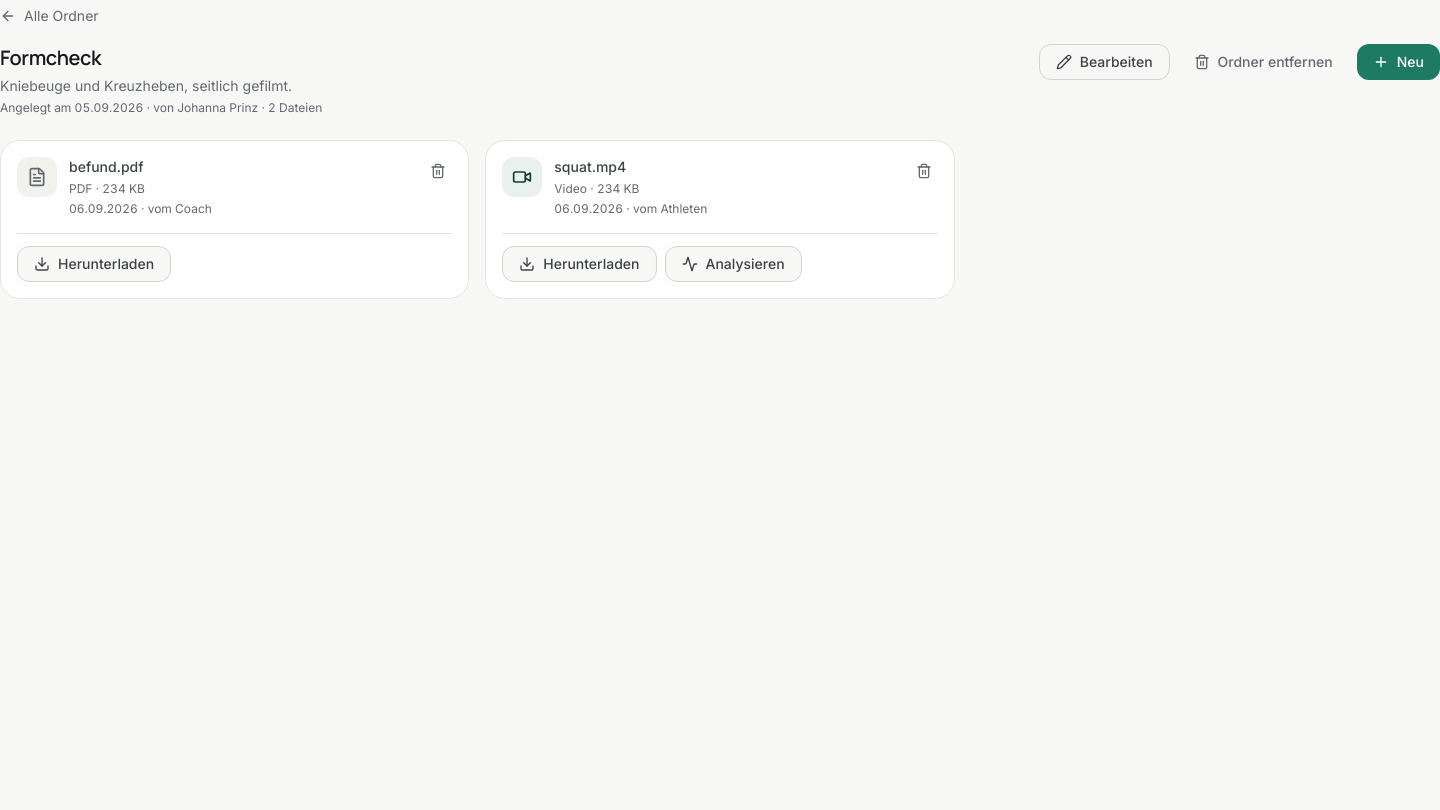
Test: putting something here › files an upload into the folder that is open
The image size is (1440, 810).
Click the button "Neu". click: (1398, 62)
box: [1357,44,1439,80]
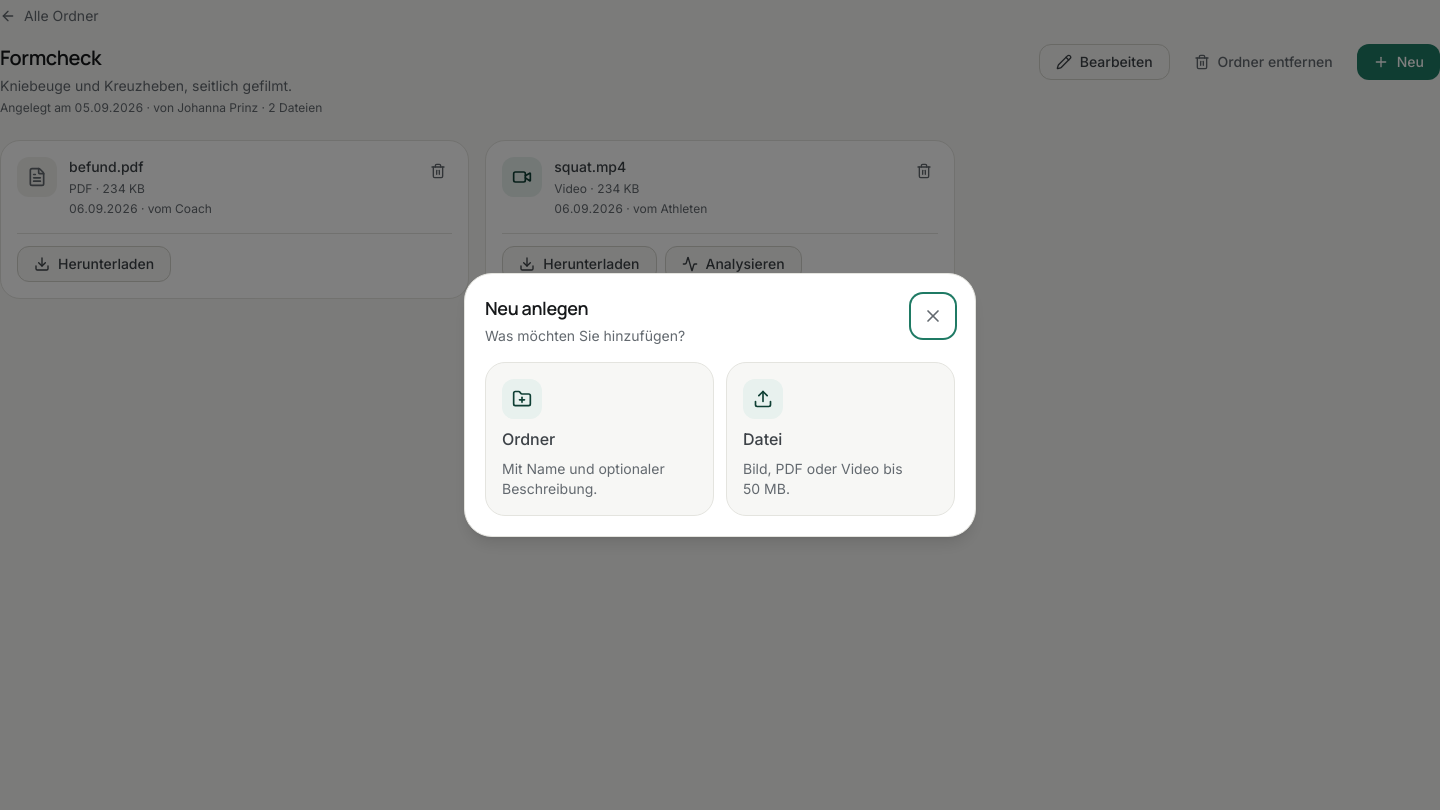
Click the button "Datei Bild, PDF oder Video bis 50 MB.". click: (840, 439)
box: [726,362,955,516]
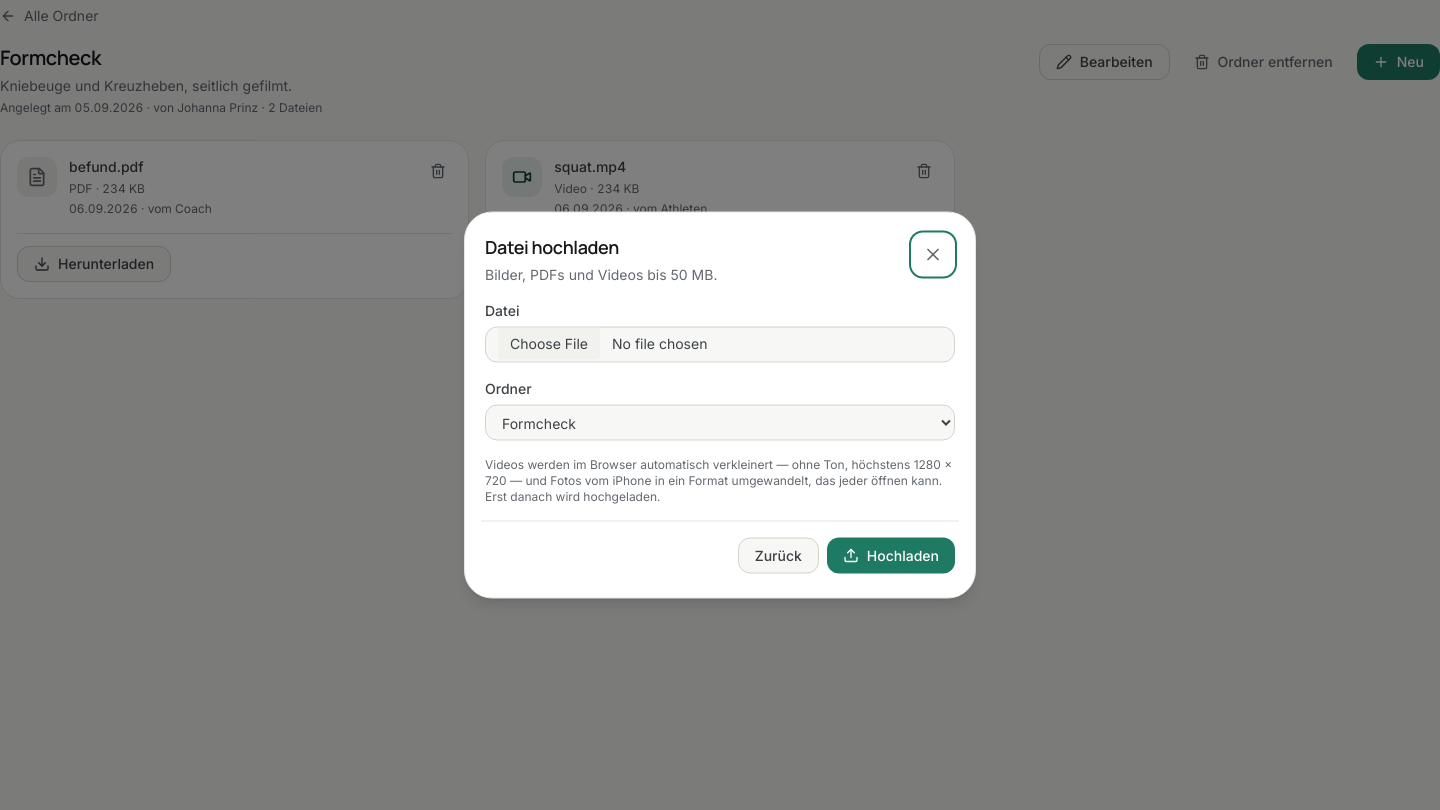
Now the dropdown labelled "Ordner" shows "Formcheck", box [485,404,955,440]
